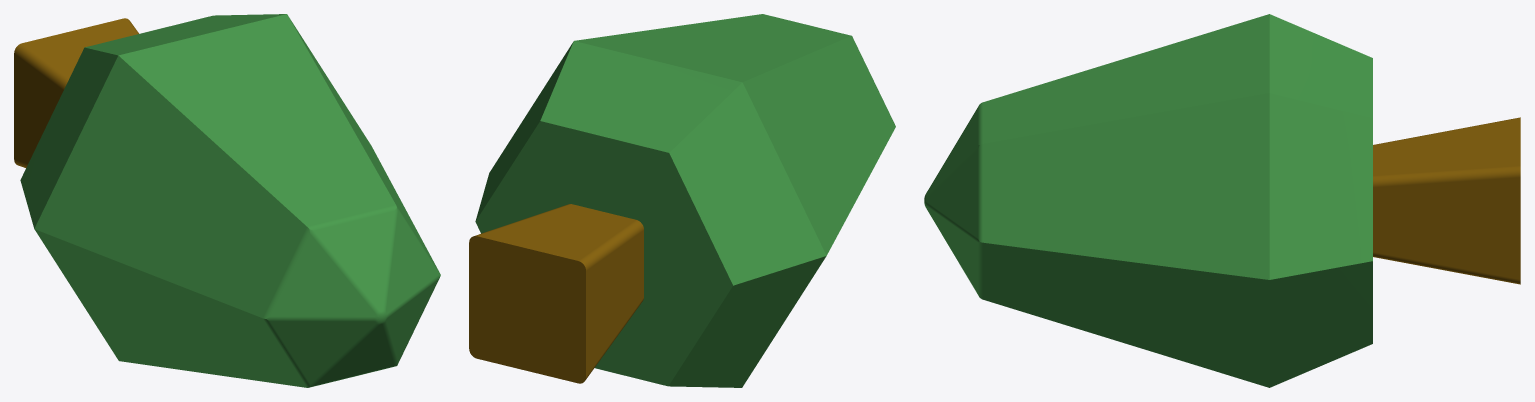
Rendered from tree1.fbx.
3 renders of one model, left to right at view 1: azimuth 30°, elevation 25°; view 2: azimuth 150°, elevation 25°; view 3: azimuth 270°, elevation 25°, orthographic. The views are drawn at different scales.
Visible parts, largest first — view 1: tree_head, tree_tail; view 2: tree_head, tree_tail; view 3: tree_head, tree_tail.
Boxes of the visible parts, <box> form: tree_head: <box>20,14,440,387</box>; tree_tail: <box>14,18,138,167</box>; tree_head: <box>475,14,895,387</box>; tree_tail: <box>469,204,643,383</box>; tree_head: <box>924,14,1372,387</box>; tree_tail: <box>1373,117,1520,284</box>.
Bounding box in the file's own units: 127 × 110 × 202.
